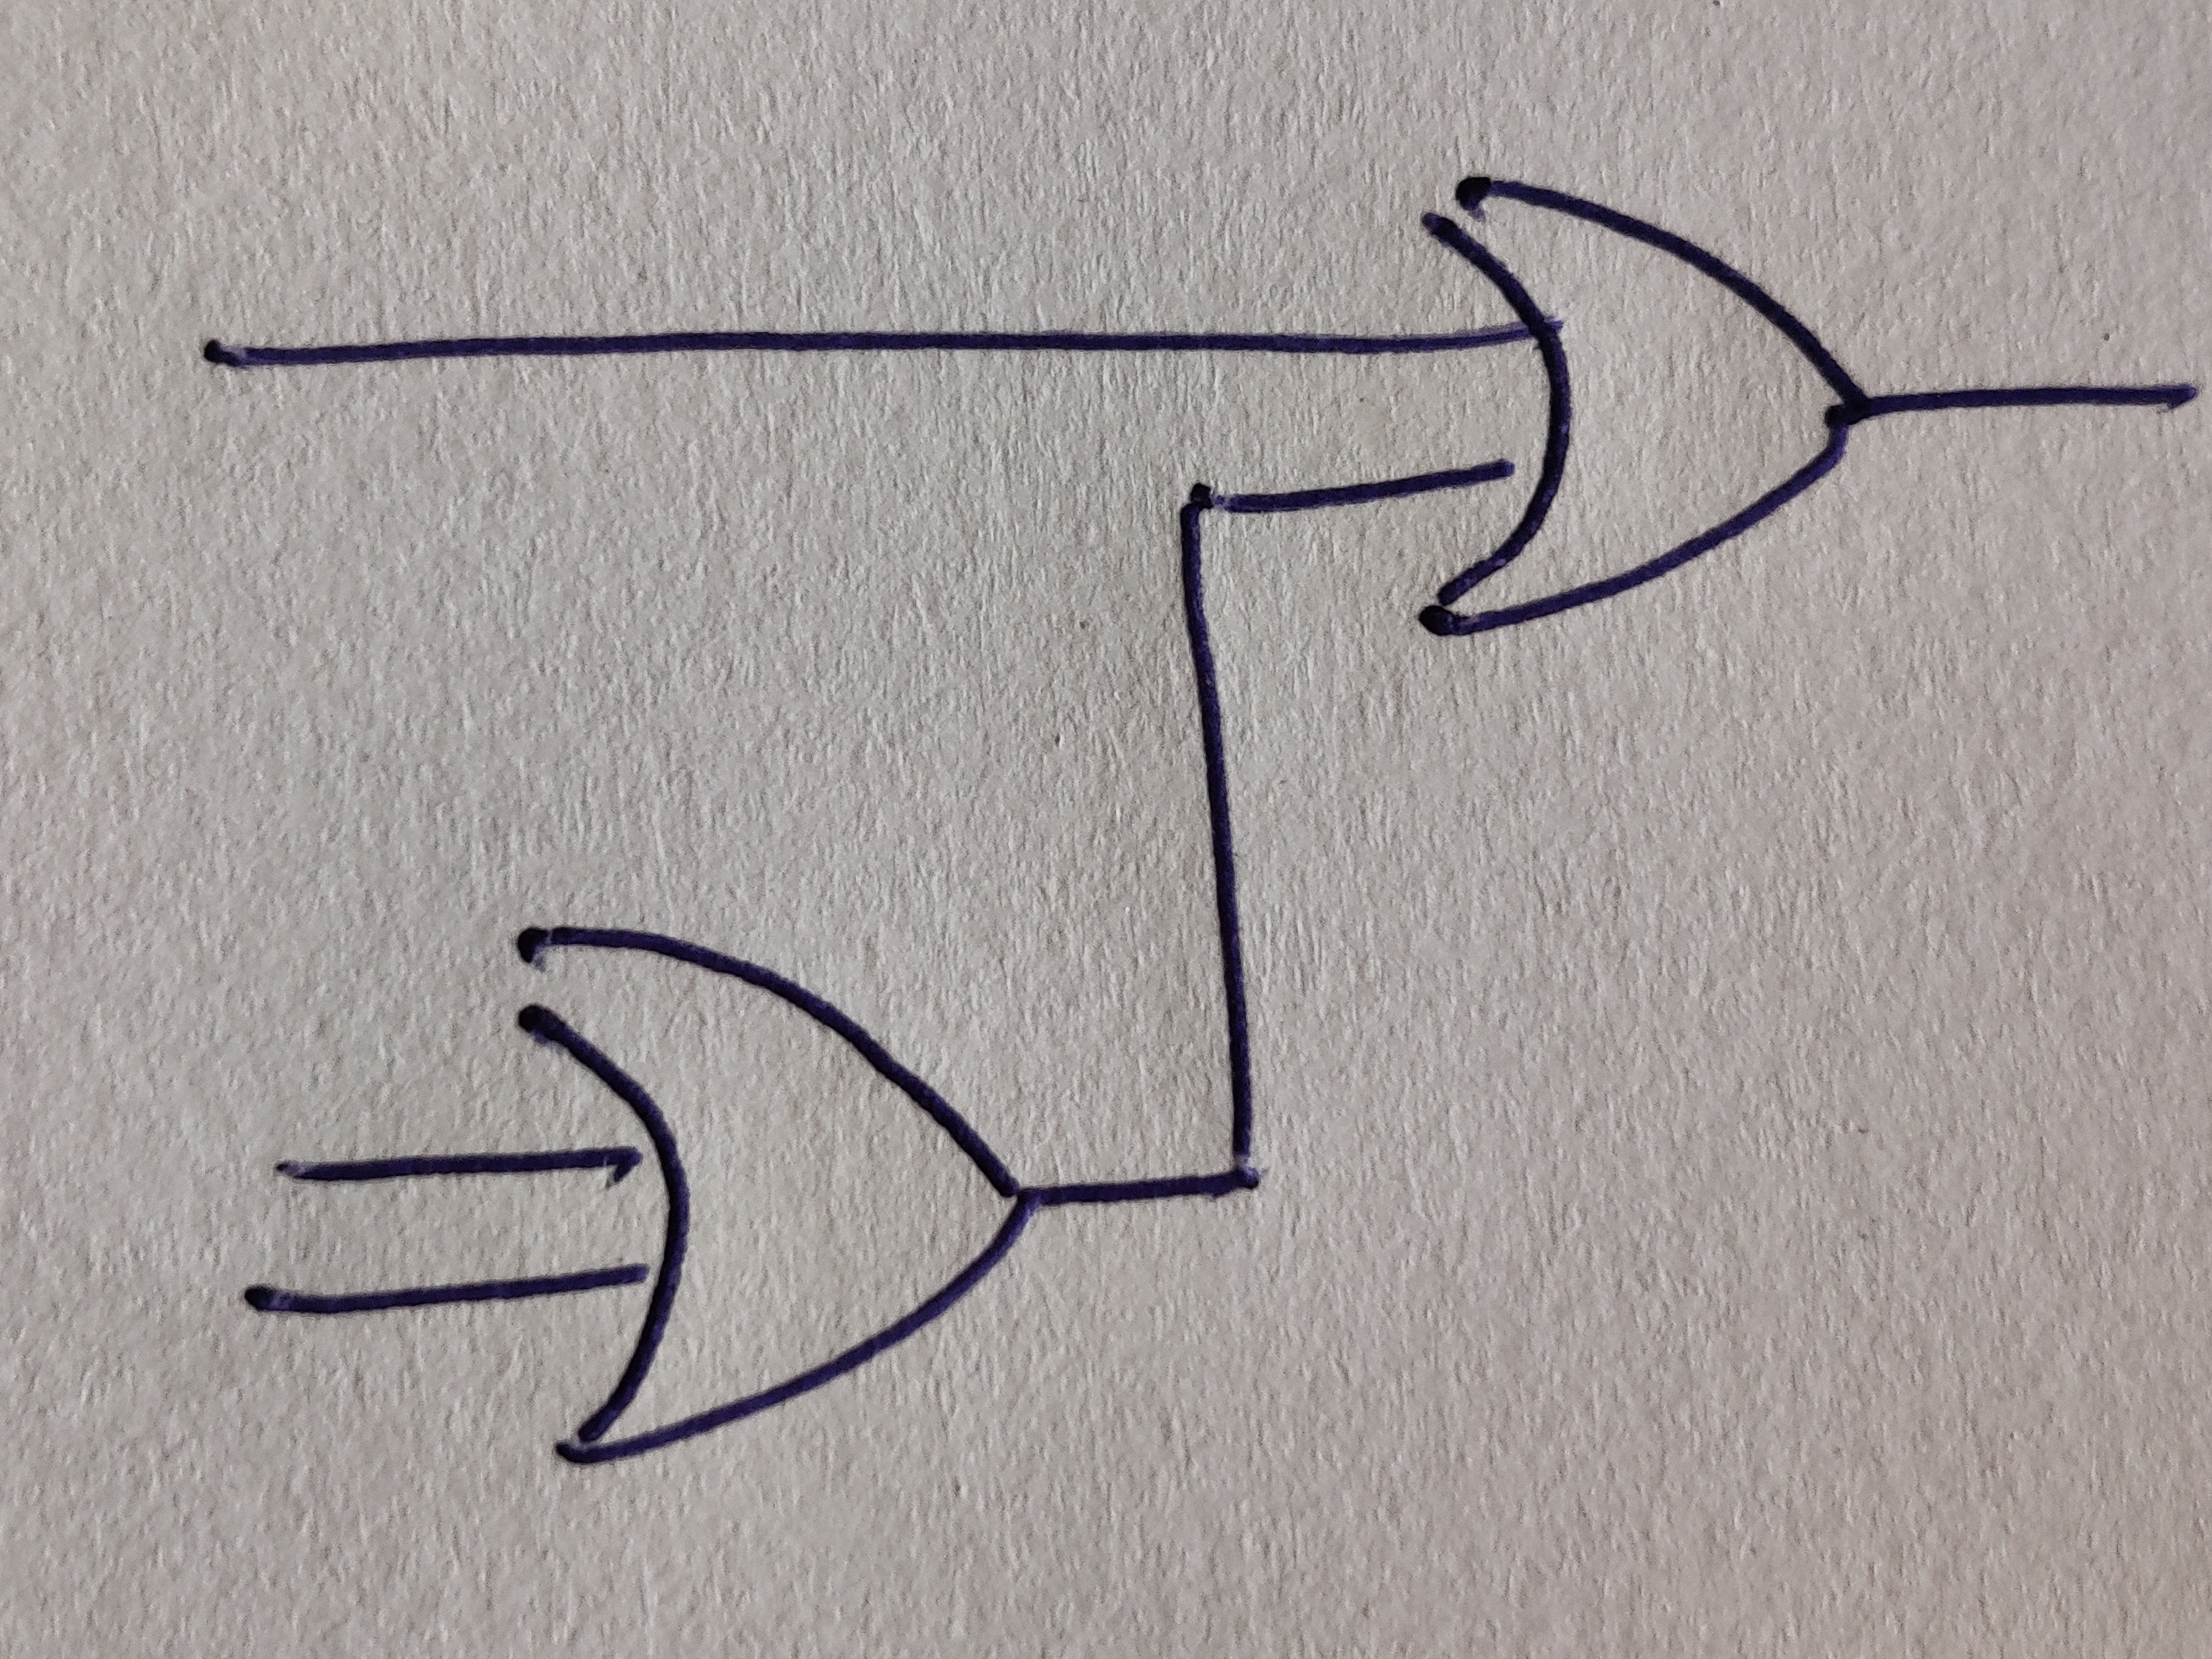or: (516, 927, 1040, 1467), (1421, 178, 1872, 634)
